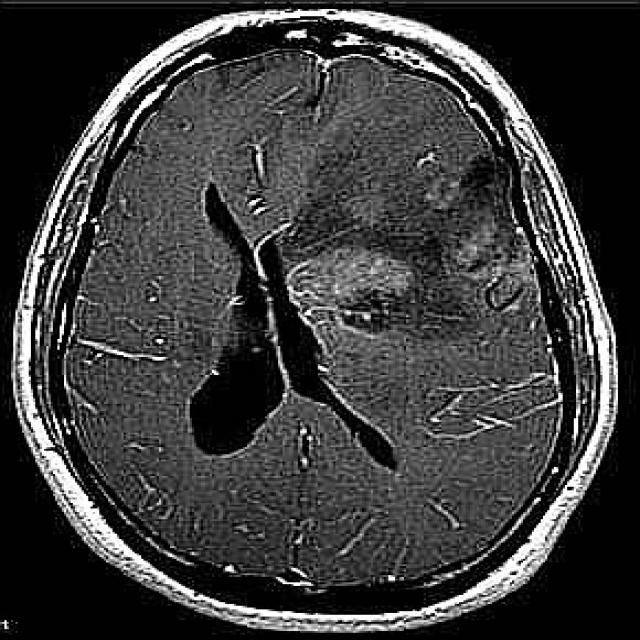Tumor-Cell: (282, 182, 540, 324)
